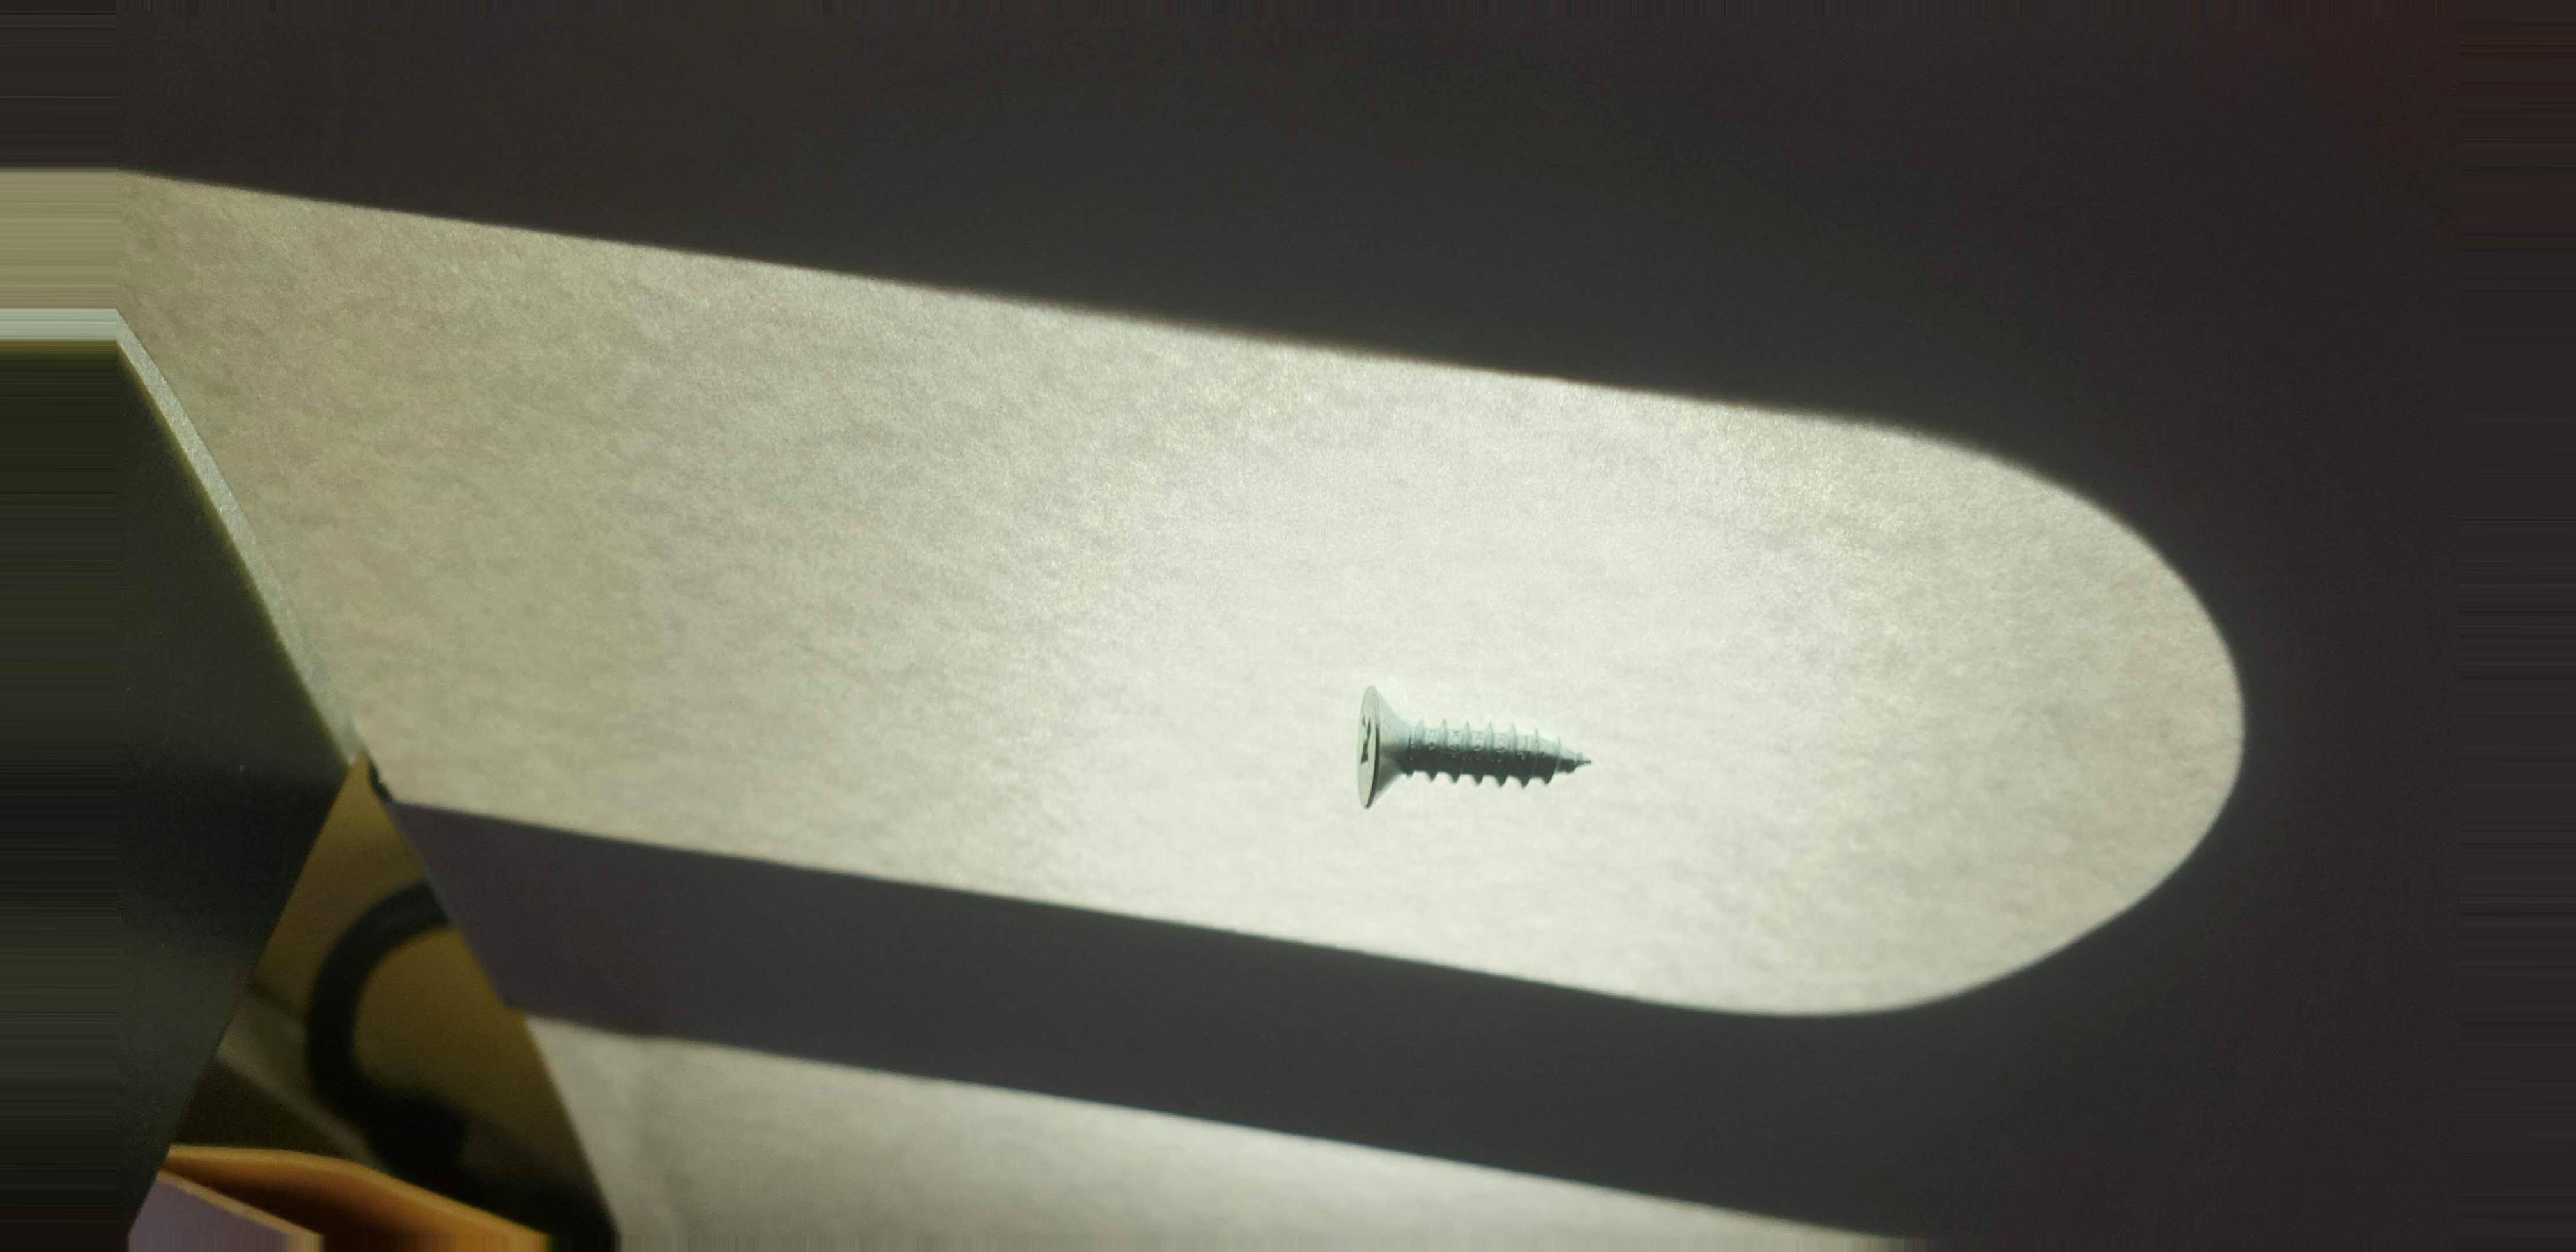S003: (1327, 662, 1623, 835)
